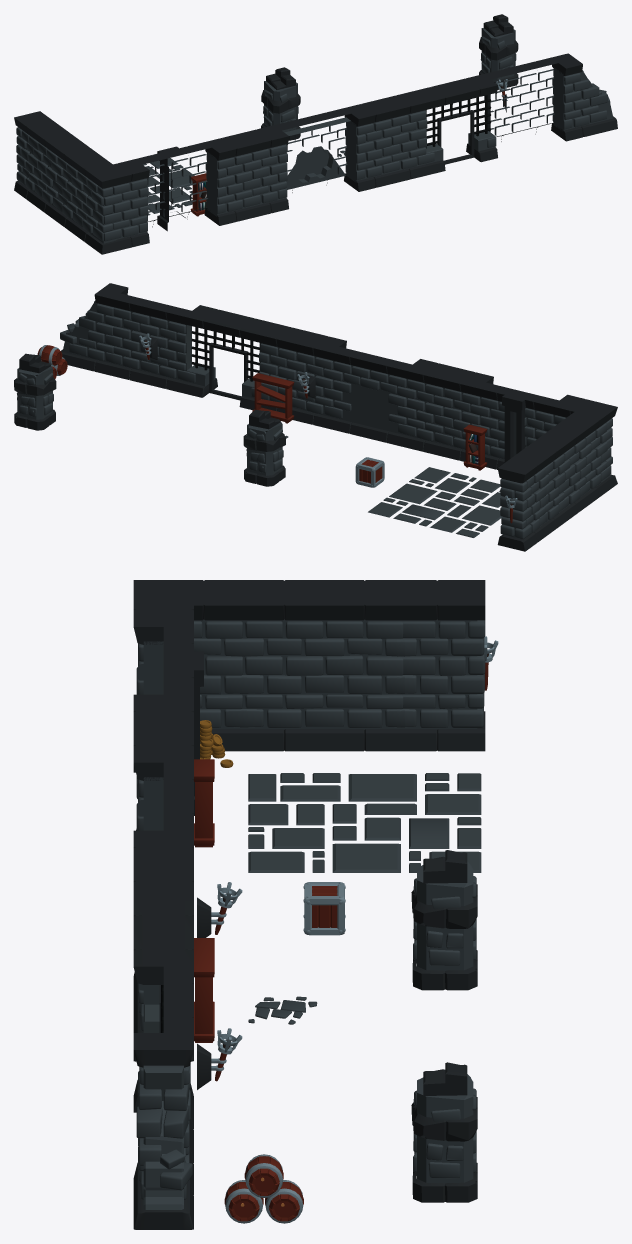
The model's file is scenario1.glb.
3 renders of one model, top to bottom at view 1: azimuth 30°, elevation 25°; view 2: azimuth 150°, elevation 25°; view 3: azimuth 270°, elevation 25°, orthographic. The views are drawn at different scales.
Visible parts, largest first — view 1: mergedBlocks(Clone); view 2: mergedBlocks(Clone); view 3: mergedBlocks(Clone).
Part boxes in pixels (x1,y1,x2,y2): mergedBlocks(Clone): (14, 14, 617, 254); mergedBlocks(Clone): (14, 283, 617, 551); mergedBlocks(Clone): (133, 580, 498, 1229).
Size of the model in its own units: 29.7 by 4.53 by 9.07.
